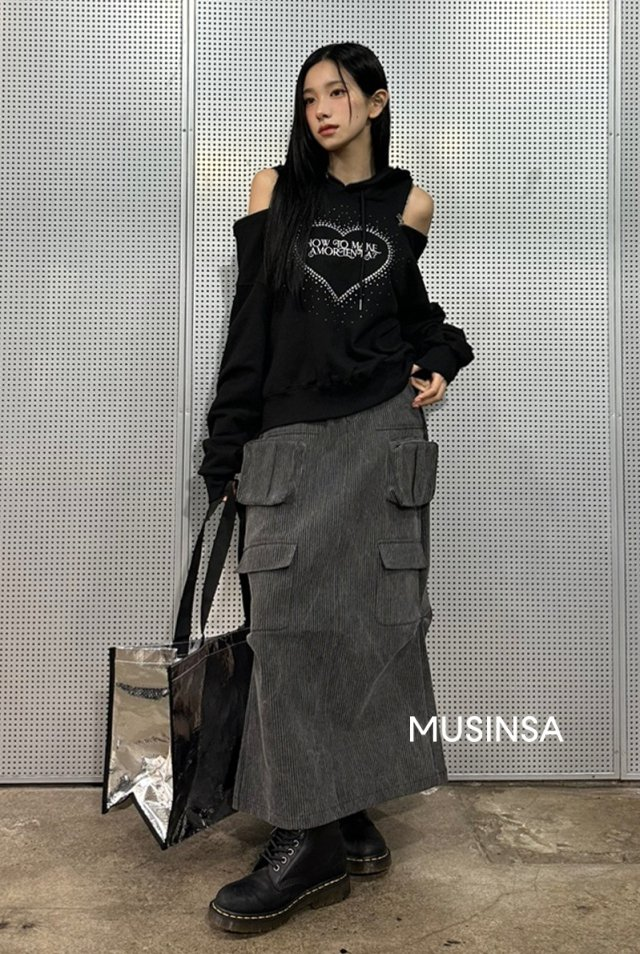Bag: (93, 484, 255, 854)
Shoes: (213, 802, 402, 935)
Skirt: (228, 387, 452, 830)
Top: (202, 153, 465, 400)
